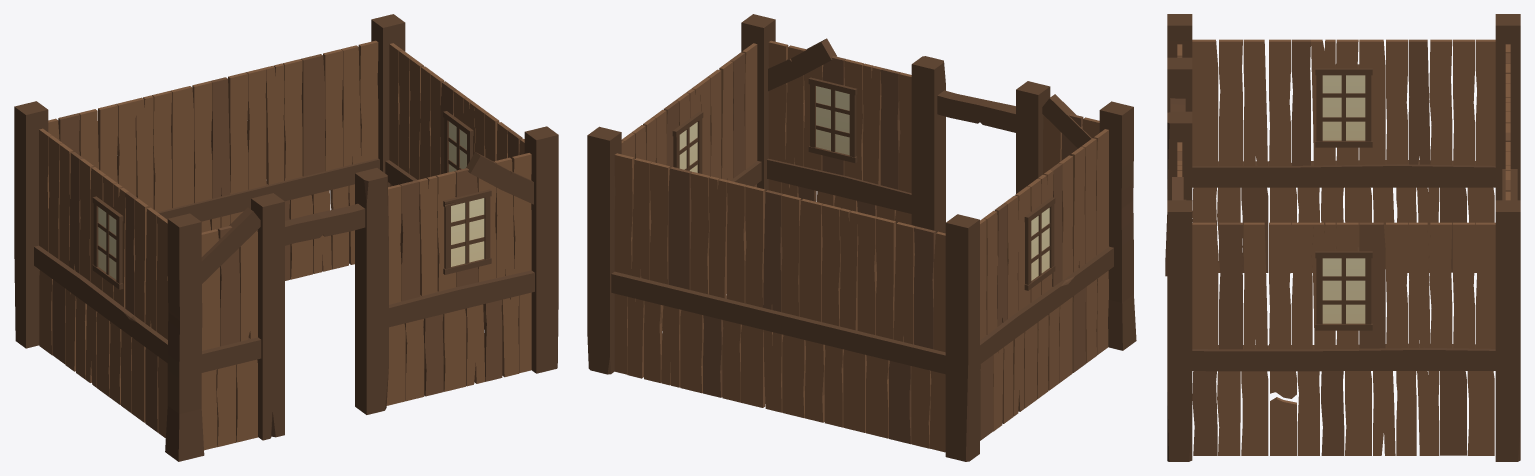
The model's file is House_01.fbx.
3 views of the same model, side by side, from view 1: azimuth 30°, elevation 25°; view 2: azimuth 150°, elevation 25°; view 3: azimuth 270°, elevation 25° (orthographic). The views are drawn at different scales.
Visible parts, largest first — view 1: House_01_LOD0; view 2: House_01_LOD0; view 3: House_01_LOD0.
Part boxes in pixels (bbox=[...]): House_01_LOD0: bbox=[14, 14, 558, 461]; House_01_LOD0: bbox=[587, 14, 1136, 461]; House_01_LOD0: bbox=[1165, 14, 1520, 461].
Size of what is drawn, in the model's own units: 4.27 by 2.5 by 3.22.
